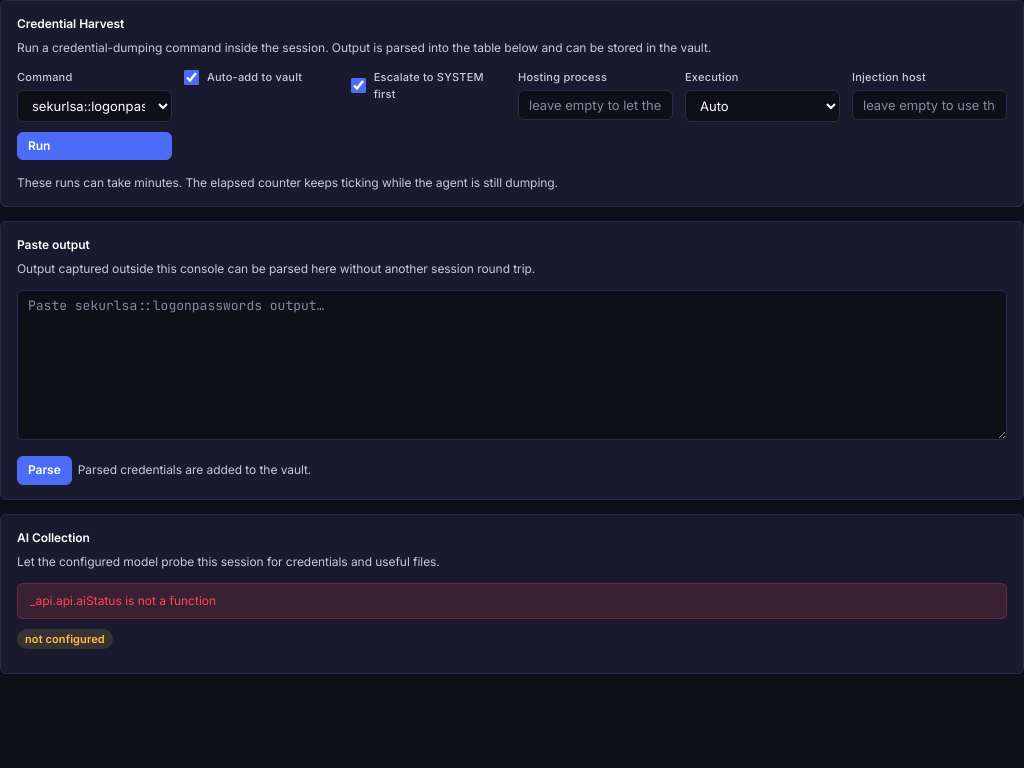
HarvestTab › refuses to parse an empty paste area
Click the button "Parse" at coordinates (44, 470), box [17,456,72,485]
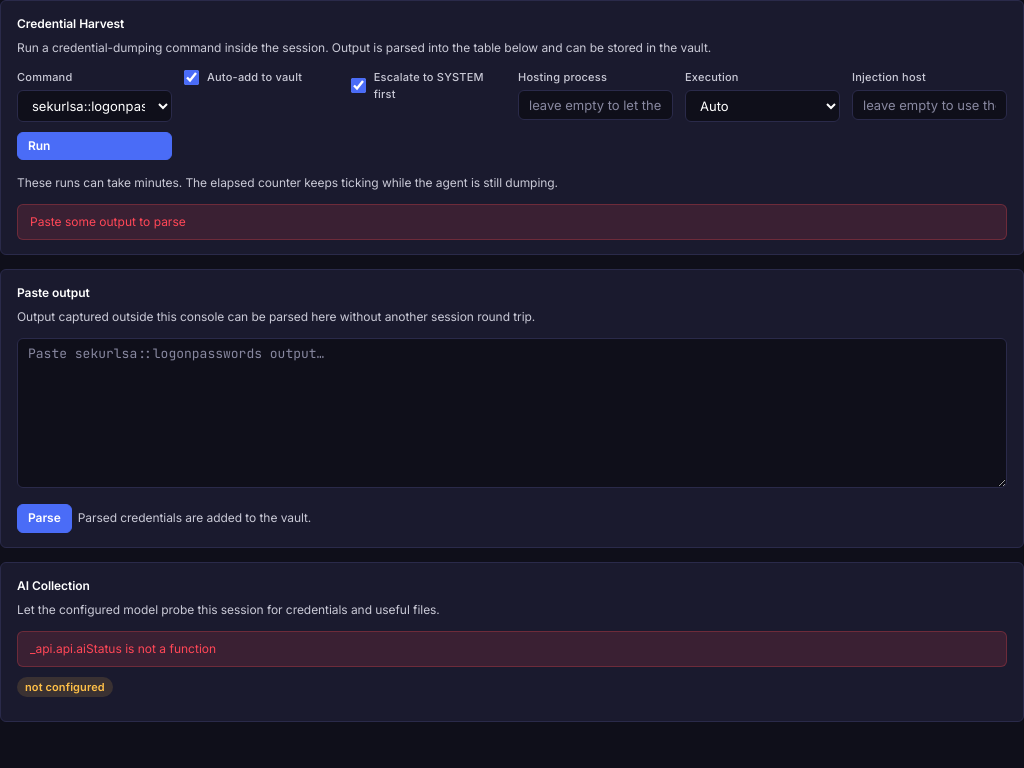
Expected: the text "Paste some output to parse" is shown, [17,204,1007,240]
